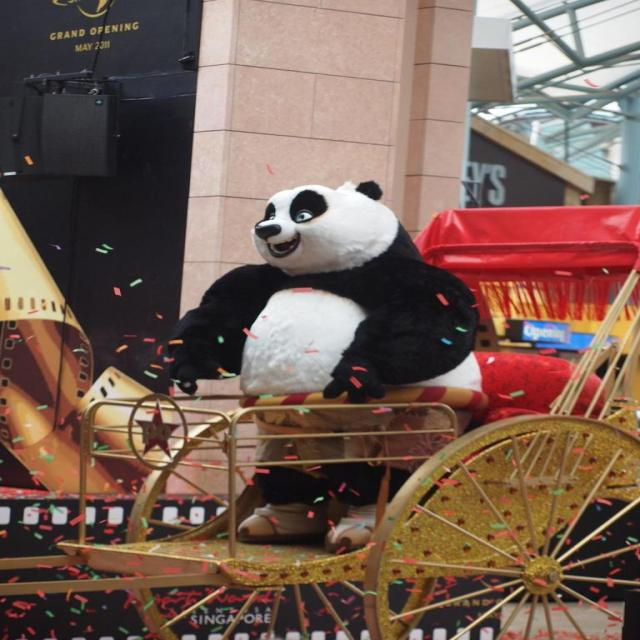panda: (167, 178, 485, 554)
